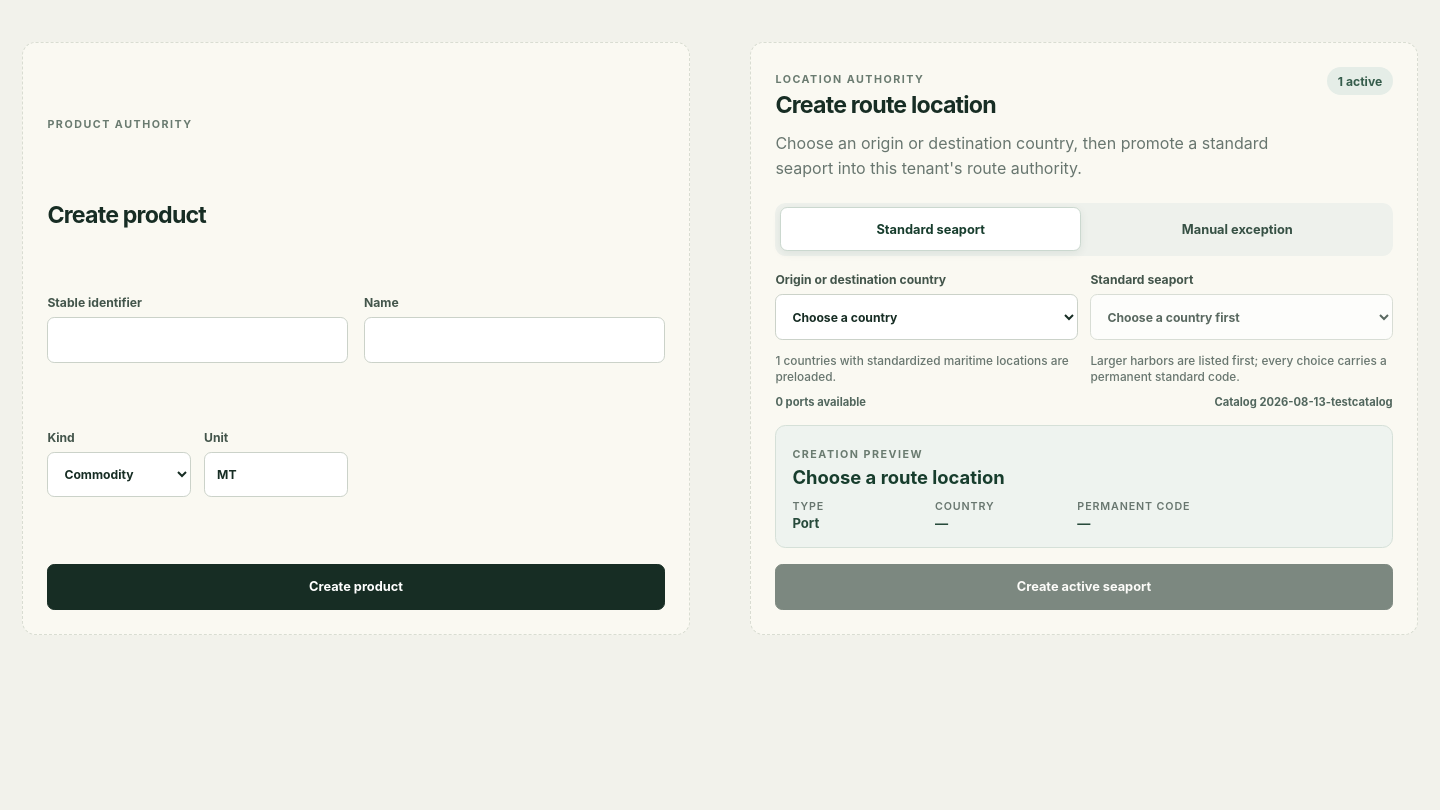
Test: prefills a standardized seaport and blocks a duplicate tenant location
Step 1. Select "Ghana · GH (2)" in the dropdown labelled "Origin or destination country" → (926, 317), box 775,294 -> 1078,340
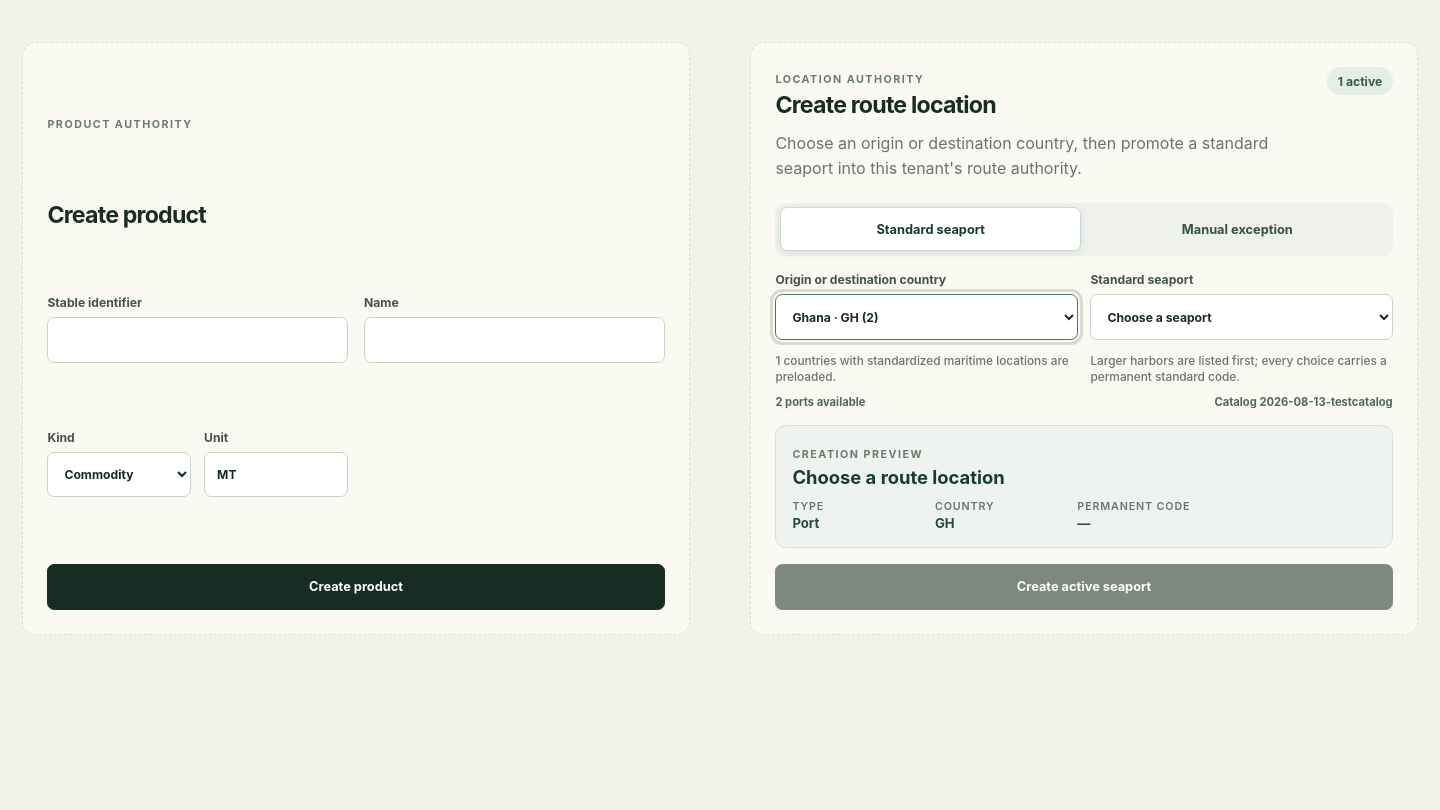
Step 2. Select "Tema · GHTEM · Small harbor" in the dropdown labelled "Standard seaport" → (1242, 317), box 1090,294 -> 1393,340
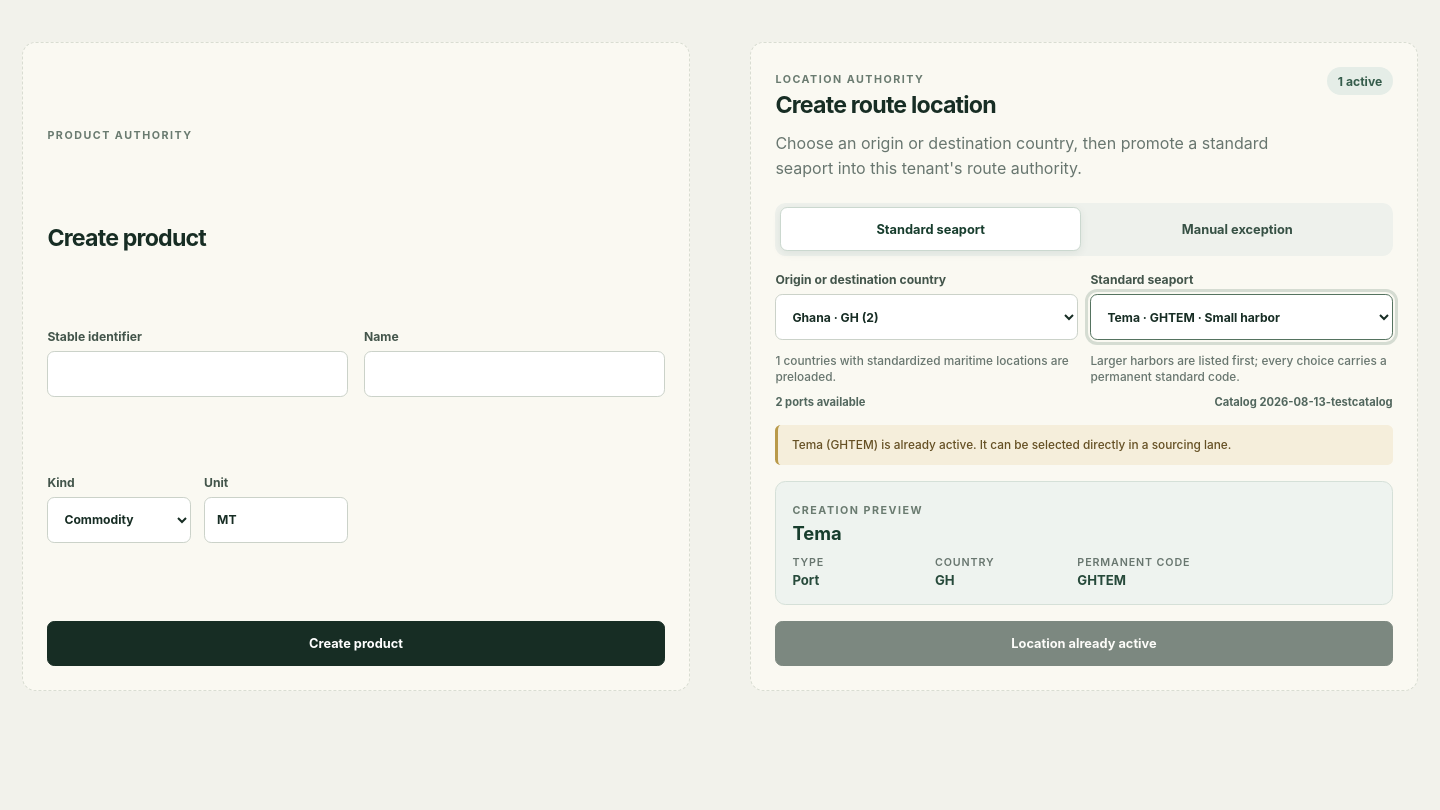
Expected: the button "Location already active" is disabled, 775,621 -> 1393,666
Expected: the text "Tema (GHTEM) is already active" is shown, 775,425 -> 1393,465
